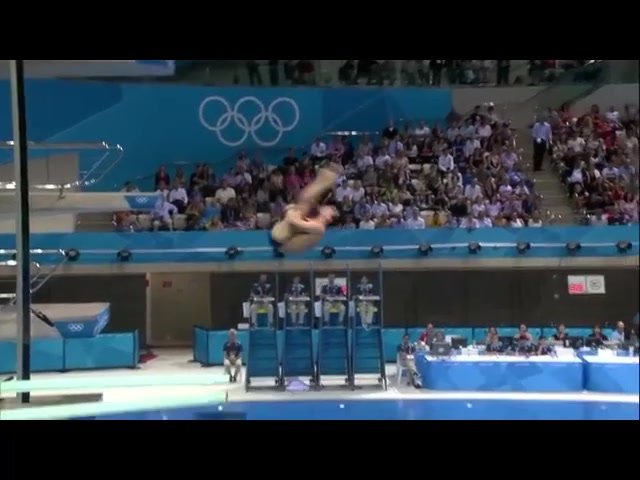diver: (268, 161, 346, 253)
